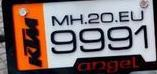1: (133, 24, 150, 49)
2: (86, 11, 100, 23)
9: (49, 27, 78, 54), (106, 24, 133, 50), (78, 26, 105, 51)
E: (117, 10, 130, 21)
H: (68, 12, 84, 24)
M: (50, 13, 69, 25)
O: (99, 11, 113, 22)
U: (129, 10, 144, 21)
